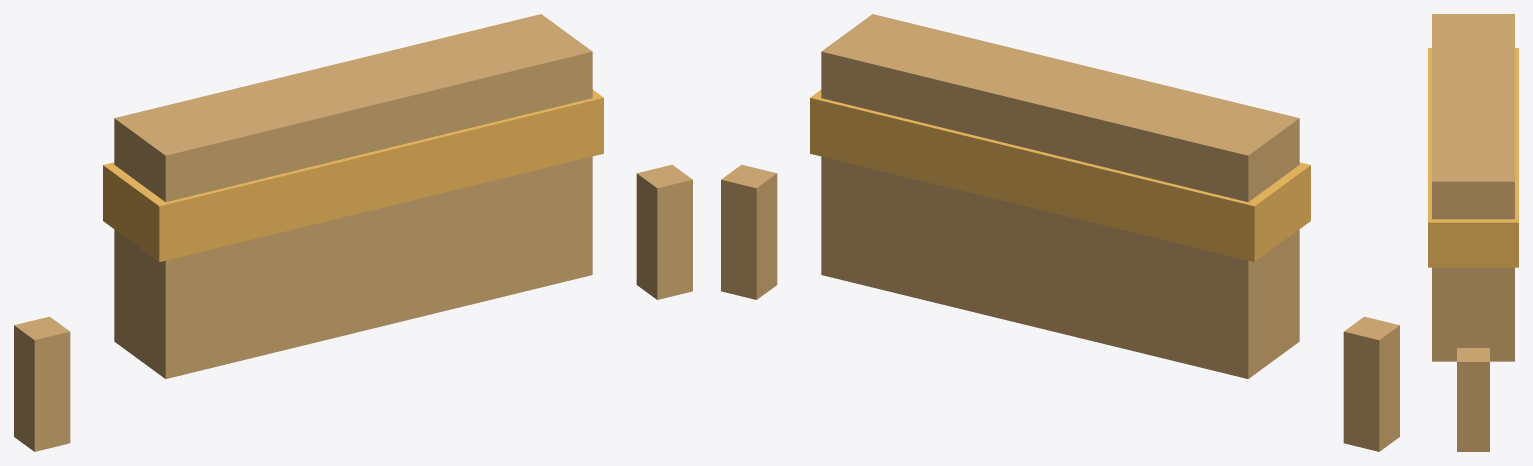
The model's file is Obstacle_Barrier.fbx.
The picture shows the model from 3 angles, left to right: view 1: azimuth 30°, elevation 25°; view 2: azimuth 150°, elevation 25°; view 3: azimuth 270°, elevation 25°; orthographic projection. The views are drawn at different scales.
Visible parts, largest first — view 1: Obstacle_Barrier; view 2: Obstacle_Barrier; view 3: Obstacle_Barrier.
Part boxes in pixels (x1,y1,x2,y2): Obstacle_Barrier: (14, 14, 692, 451); Obstacle_Barrier: (721, 14, 1399, 451); Obstacle_Barrier: (1428, 14, 1518, 451).
Size of the model in its own units: 0.74 by 0.3 by 0.11.
